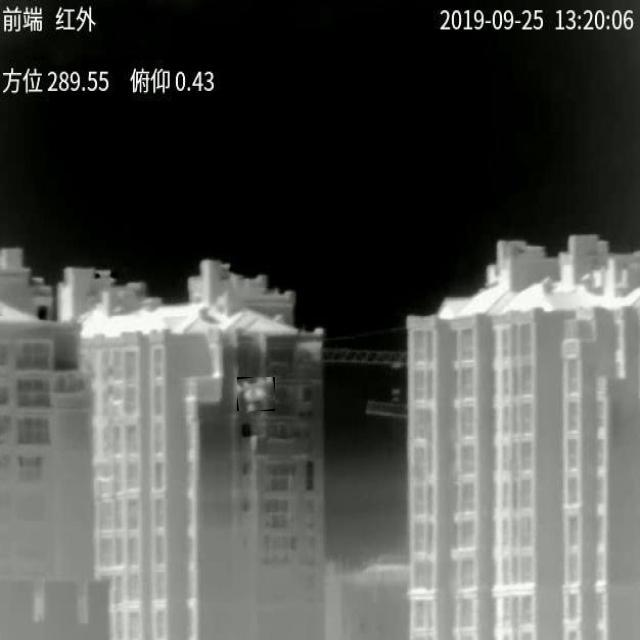drone: (237, 377, 272, 411)
